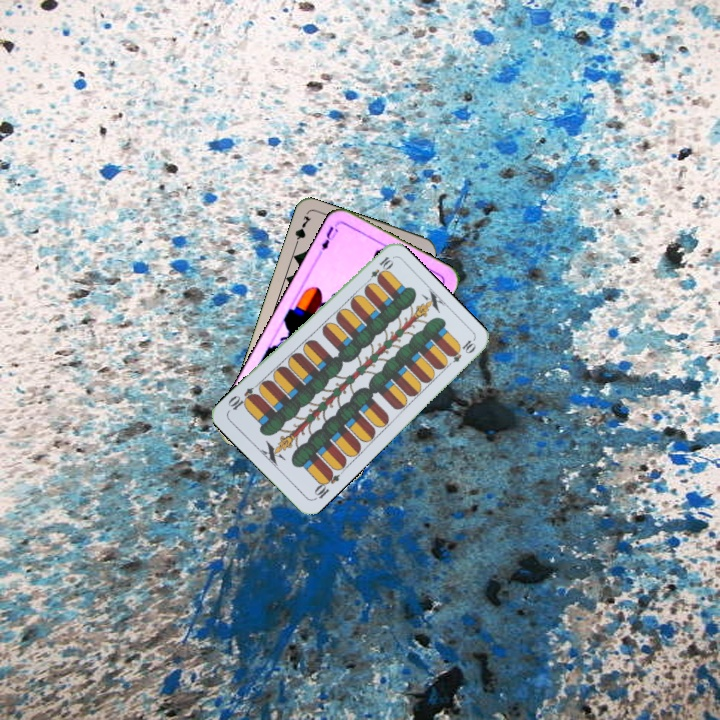E10: (310, 466, 342, 503), (362, 252, 395, 287)
EU: (316, 219, 341, 258)
G7: (290, 211, 314, 251)
